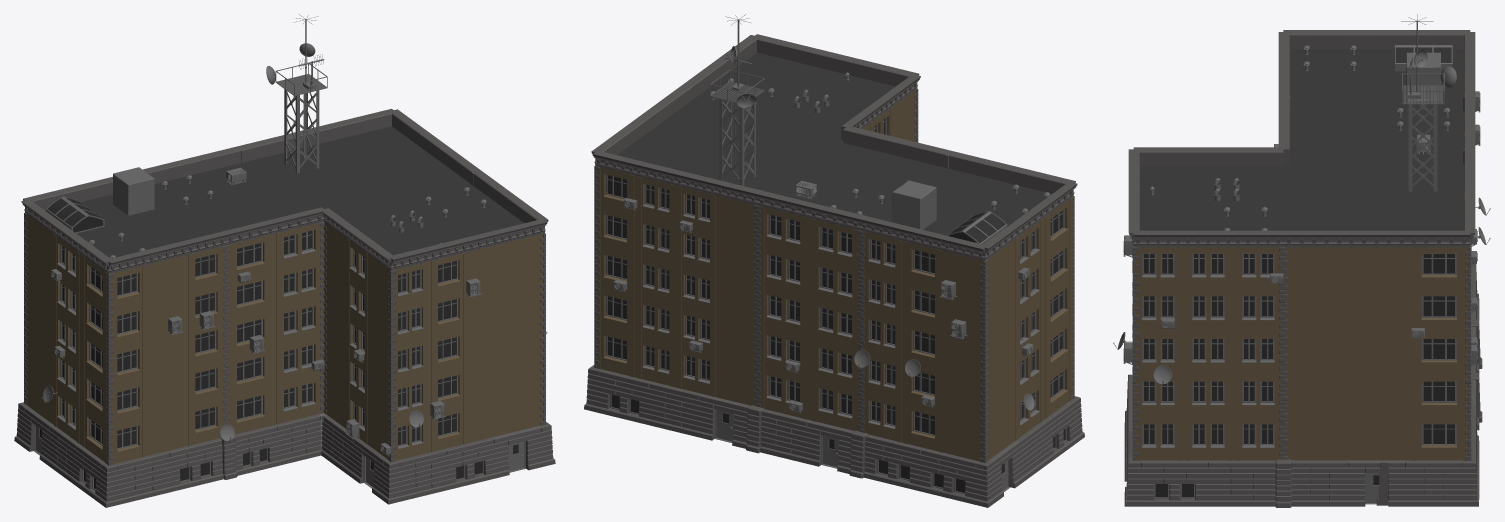
Rendered from building_2.fbx.
The picture shows the model from 3 angles, left to right: view 1: azimuth 30°, elevation 25°; view 2: azimuth 150°, elevation 25°; view 3: azimuth 270°, elevation 25°; orthographic projection. The views are drawn at different scales.
Parts seen in each view (by area): view 1: building_base; view 2: building_base; view 3: building_base, ground_floor_wall_03.
Boxes of the visible parts, x1=… form: building_base: x1=14, y1=14, x2=555, y2=507; building_base: x1=584, y1=14, x2=1084, y2=507; building_base: x1=1113, y1=14, x2=1490, y2=507; ground_floor_wall_03: x1=1376, y1=462, x2=1388, y2=505.
Bounding box in the file's own units: 3289 × 3004 × 2406.
